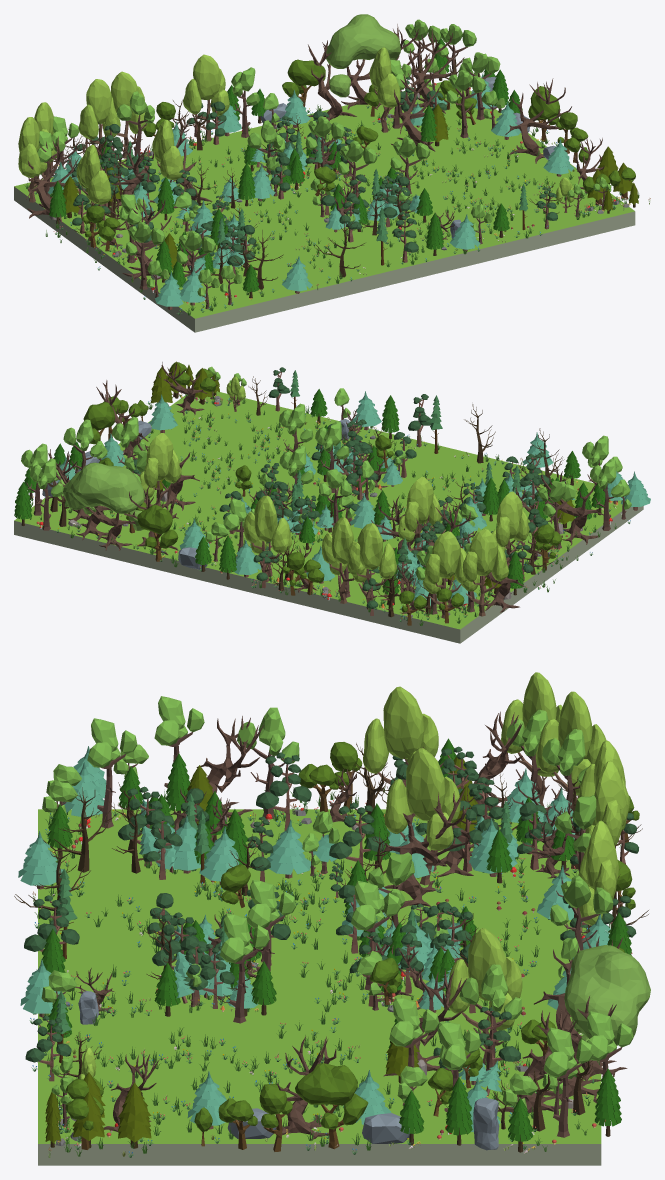
The model's file is Level_2Commonworld.fbx.
The picture shows the model from 3 angles, top to bottom: view 1: azimuth 30°, elevation 25°; view 2: azimuth 150°, elevation 25°; view 3: azimuth 270°, elevation 25°; orthographic projection. The views are drawn at different scales.
Parts seen in each view (by area): view 1: BG_Cube.019, Tree5_2.129, Tree1.055, Tree1.053, Tree1.065, Tree1.075, Tree1.074, Tree1.054, Tree1.064, Tree5_1.121, Tree1_1.030, Tree5_1.123 (+44 smaller); view 2: BG_Cube.019, Tree5_2.129, Tree1.074, Tree1.053, Tree1.055, Tree1.050, Tree1.075, Tree1.064, Tree1.054, Tree1.065, Tree1_1.030, Tree2_1.453 (+46 smaller); view 3: BG_Cube.019, Tree5_2.129, Tree1.064, Tree1.065, Tree1.075, Tree1_1.031, Tree1.050, Tree1.055, Tree1.074, Tree2_1.455, Tree2_1.459, Tree2_1.464 (+80 smaller).
Part boxes in pixels (x1,y1,x2,y2): BG_Cube.019: [14, 80, 635, 332]; Tree5_2.129: [326, 14, 400, 109]; Tree1.055: [183, 54, 229, 141]; Tree1.053: [78, 79, 120, 158]; Tree1.065: [76, 144, 111, 229]; Tree1.075: [369, 47, 400, 132]; Tree1.074: [18, 117, 47, 202]; Tree1.054: [102, 71, 147, 158]; Tree1.064: [152, 119, 183, 183]; Tree5_1.121: [505, 78, 571, 163]; Tree1_1.030: [282, 59, 325, 106]; Tree5_1.123: [391, 68, 439, 151]; BG_Cube.019: [14, 391, 643, 643]; Tree5_2.129: [63, 462, 144, 550]; Tree1.074: [461, 529, 508, 616]; Tree1.053: [347, 523, 396, 609]; Tree1.055: [243, 495, 291, 581]; Tree1.050: [423, 531, 466, 618]; Tree1.075: [139, 433, 181, 507]; Tree1.064: [398, 477, 441, 551]; Tree1.054: [321, 517, 365, 603]; Tree1.065: [492, 491, 529, 577]; Tree1_1.030: [137, 504, 178, 561]; Tree2_1.453: [590, 458, 624, 530]; BG_Cube.019: [38, 809, 601, 1165]; Tree5_2.129: [564, 945, 650, 1080]; Tree1.064: [384, 748, 460, 885]; Tree1.065: [363, 686, 438, 784]; Tree1.075: [449, 928, 522, 1064]; Tree1_1.031: [295, 1063, 368, 1149]; Tree1.050: [536, 691, 606, 801]; Tree1.055: [575, 820, 618, 936]; Tree1.074: [501, 672, 562, 806]; Tree2_1.455: [87, 718, 137, 828]; Tree2_1.459: [543, 1027, 593, 1137]; Tree2_1.464: [220, 913, 269, 1023].
Size of the model in its own units: 12176 by 2360 by 8821.
